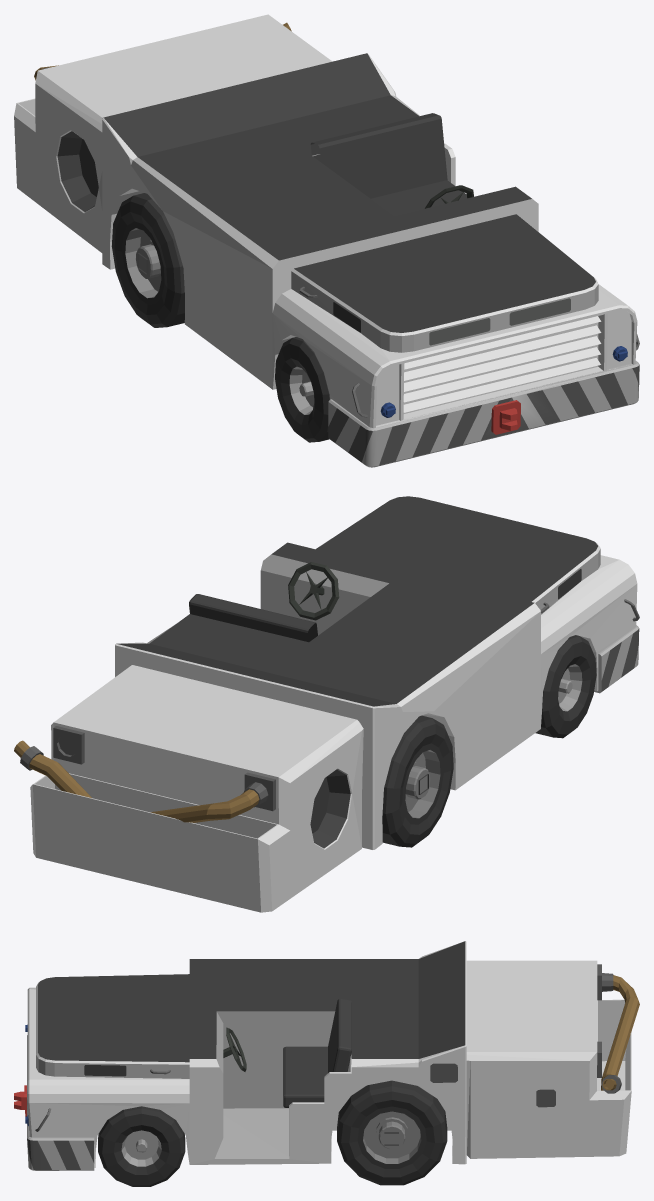
The model's file is model_carrier_vehicle.fbx.
3 renders of one model, top to bottom at view 1: azimuth 30°, elevation 25°; view 2: azimuth 150°, elevation 25°; view 3: azimuth 270°, elevation 25°, orthographic. The views are drawn at different scales.
Parts seen in each view (by area): view 1: model_carrier_vehicle, model_wheel_back_left, model_wheel_front_left; view 2: model_carrier_vehicle, model_wheel_back_left, model_wheel_front_left; view 3: model_carrier_vehicle, model_wheel_back_right, model_wheel_front_right.
Boxes of the visible parts, bbox=[...] form: model_carrier_vehicle: bbox=[14, 14, 639, 467]; model_wheel_back_left: bbox=[111, 193, 184, 327]; model_wheel_front_left: bbox=[275, 337, 329, 442]; model_carrier_vehicle: bbox=[14, 496, 639, 912]; model_wheel_back_left: bbox=[382, 715, 453, 847]; model_wheel_front_left: bbox=[535, 635, 596, 738]; model_carrier_vehicle: bbox=[14, 941, 639, 1170]; model_wheel_back_right: bbox=[337, 1080, 447, 1185]; model_wheel_front_right: bbox=[98, 1106, 185, 1186].
Bounding box in the file's own units: 2.48 × 1.45 × 5.81.
